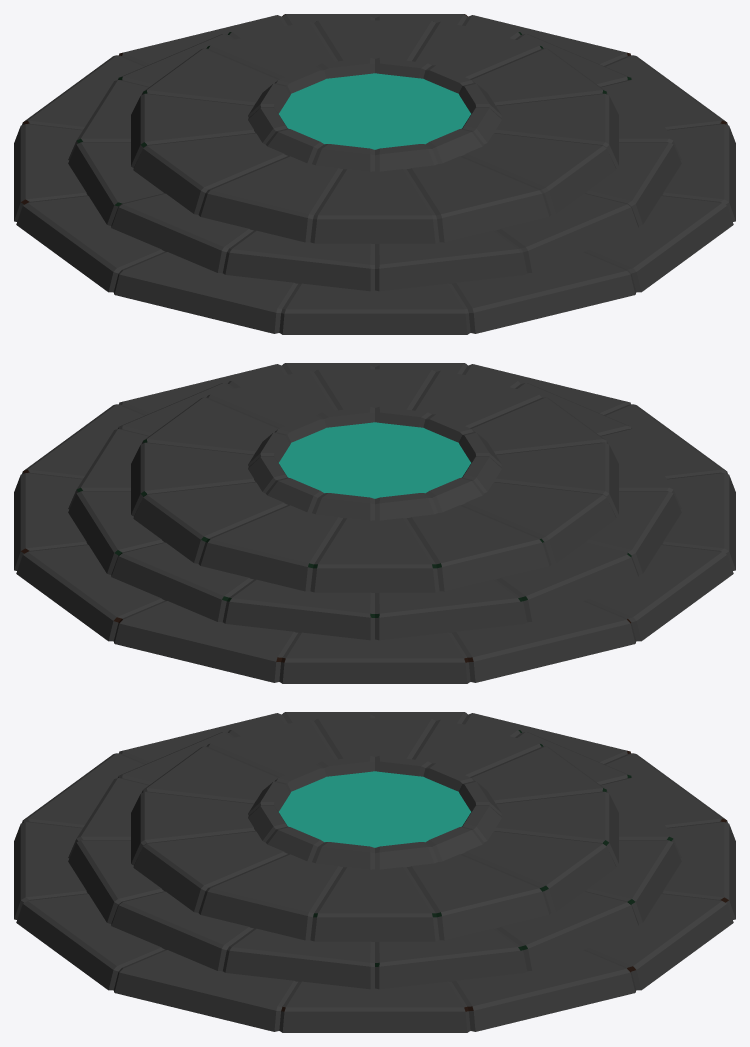
Rendered from Portal_FBX.fbx.
3 renders of one model, top to bottom at view 1: azimuth 30°, elevation 25°; view 2: azimuth 150°, elevation 25°; view 3: azimuth 270°, elevation 25°, orthographic.
Parts seen in each view (by area): view 1: Portal, Cylinder027; view 2: Portal, Cylinder027; view 3: Portal, Cylinder027.
Boxes of the visible parts, x1,y1,x2,y2 form: Portal: [68, 16, 681, 291]; Cylinder027: [14, 14, 735, 334]; Portal: [68, 365, 681, 640]; Cylinder027: [14, 363, 735, 683]; Portal: [68, 714, 681, 989]; Cylinder027: [14, 712, 735, 1032].
Size of the model in its own units: 753 by 87.9 by 753.
